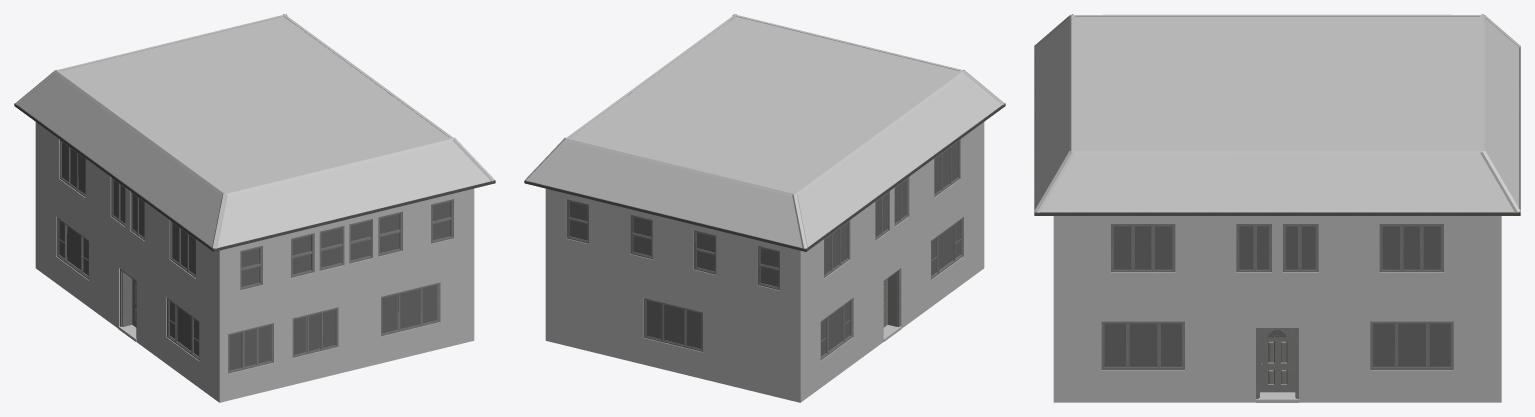
The model's file is SM_Bp_Building01_C_1.gltf.
The picture shows the model from 3 angles, left to right: view 1: azimuth 30°, elevation 25°; view 2: azimuth 150°, elevation 25°; view 3: azimuth 270°, elevation 25°; orthographic projection. The views are drawn at different scales.
Visible parts, largest first — view 1: SM_Bp_Building01_C_1_Merged; view 2: SM_Bp_Building01_C_1_Merged; view 3: SM_Bp_Building01_C_1_Merged.
Part boxes in pixels (x1=…): SM_Bp_Building01_C_1_Merged: x1=14, y1=14, x2=495, y2=402; SM_Bp_Building01_C_1_Merged: x1=524, y1=14, x2=1005, y2=402; SM_Bp_Building01_C_1_Merged: x1=1034, y1=14, x2=1520, y2=402.
Size of the model in its own units: 11.07 by 7.52 by 13.57.
